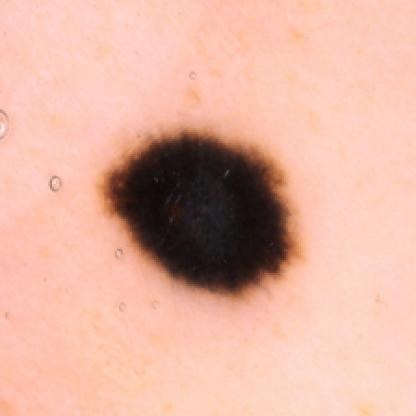benign: (106, 128, 319, 294)
